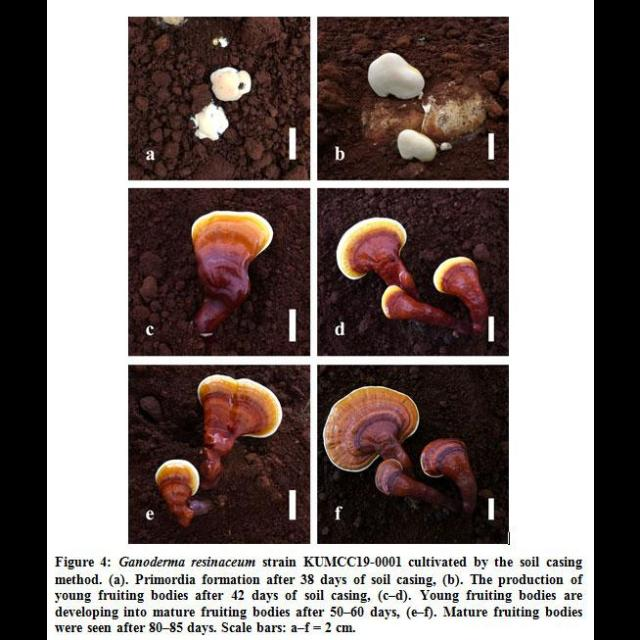ganoderma: (322, 388, 420, 473), (190, 212, 274, 304), (197, 377, 283, 440), (335, 219, 406, 282), (153, 461, 200, 510), (421, 438, 469, 481), (434, 256, 481, 296), (374, 459, 406, 497), (381, 285, 410, 324)
primordium: (367, 54, 426, 100), (189, 104, 231, 143), (210, 68, 251, 103), (395, 130, 437, 163)
